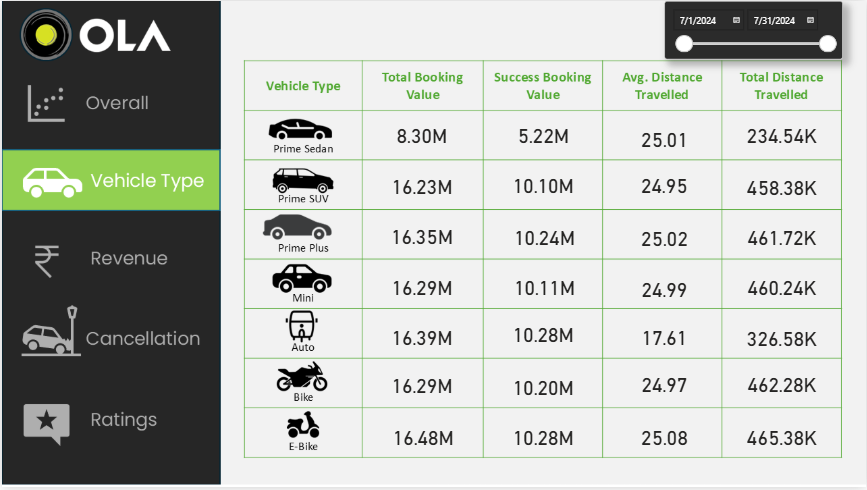

What the dashboard file says about the page in this screenshot:
{"tool":"powerbi","page":{"name":"Vehicle Type","canvas":[1280,720],"ordinal":1},"visuals":[{"type":"actionButton","box":[0,223.6,325,90.3],"z":0},{"type":"actionButton","box":[0,336.1,325,90.3],"z":1000},{"type":"actionButton","box":[0,441.7,325,101.4],"z":2000},{"type":"actionButton","box":[0,576.4,325,101.4],"z":3000},{"type":"actionButton","box":[0,105.6,325,91.7],"z":4000},{"type":"card","fields":{"Values":["Sum(July.Booking_Value)"]},"box":[540.3,173.6,162.5,50],"z":4001},{"type":"card","fields":{"Values":["Sum(July.Booking_Value)"]},"box":[540.3,244.4,162.5,59.7],"z":4002},{"type":"card","fields":{"Values":["Sum(July.Booking_Value)"]},"box":[540.3,313.9,162.5,68.1],"z":4003},{"type":"card","fields":{"Values":["Sum(July.Booking_Value)"]},"box":[540.3,391.7,162.5,62.5],"z":4004},{"type":"card","fields":{"Values":["Sum(July.Booking_Value)"]},"box":[540.3,468.1,162.5,59.7],"z":4005},{"type":"card","fields":{"Values":["Sum(July.Booking_Value)"]},"box":[540.3,543.1,162.5,54.2],"z":4006},{"type":"card","fields":{"Values":["Sum(July.Booking_Value)"]},"box":[541.7,615.3,162.5,62.5],"z":4007},{"type":"card","fields":{"Values":["Sum(July.Booking_Value)"]},"box":[720.8,168.1,162.5,61.1],"z":4008},{"type":"card","fields":{"Values":["Sum(July.Booking_Value)"]},"box":[720.8,243.1,162.5,61.1],"z":4009},{"type":"card","fields":{"Values":["Sum(July.Booking_Value)"]},"box":[722.2,318.1,162.5,61.1],"z":4010},{"type":"card","fields":{"Values":["Sum(July.Booking_Value)"]},"box":[722.2,393.1,162.5,61.1],"z":4011},{"type":"card","fields":{"Values":["Sum(July.Booking_Value)"]},"box":[720.8,462.5,162.5,61.1],"z":4012},{"type":"card","fields":{"Values":["Sum(July.Booking_Value)"]},"box":[720.8,540.3,162.5,61.1],"z":4013},{"type":"card","fields":{"Values":["Sum(July.Booking_Value)"]},"box":[720.8,615.3,162.5,61.1],"z":4014},{"type":"card","fields":{"Values":["Avg(July.Ride_Distance)"]},"box":[900,173.6,162.5,61.1],"z":4015},{"type":"card","fields":{"Values":["Avg(July.Ride_Distance)"]},"box":[900,243.1,162.5,61.1],"z":4016},{"type":"card","fields":{"Values":["Avg(July.Ride_Distance)"]},"box":[900,320.8,162.5,61.1],"z":4017},{"type":"card","fields":{"Values":["Avg(July.Ride_Distance)"]},"box":[900,395.8,162.5,61.1],"z":4018},{"type":"card","fields":{"Values":["Avg(July.Ride_Distance)"]},"box":[900,466.7,162.5,61.1],"z":4019},{"type":"card","fields":{"Values":["Avg(July.Ride_Distance)"]},"box":[900,536.1,162.5,61.1],"z":4020},{"type":"card","fields":{"Values":["Avg(July.Ride_Distance)"]},"box":[900,615.3,162.5,61.1],"z":4021},{"type":"card","fields":{"Values":["Sum(July.Ride_Distance)"]},"box":[1073.6,168.1,162.5,61.1],"z":4022},{"type":"card","fields":{"Values":["Sum(July.Ride_Distance)"]},"box":[1073.6,244.4,162.5,61.1],"z":4023},{"type":"card","fields":{"Values":["Sum(July.Ride_Distance)"]},"box":[1073.6,318.1,162.5,61.1],"z":4024},{"type":"card","fields":{"Values":["Sum(July.Ride_Distance)"]},"box":[1073.6,395.8,162.5,54.2],"z":4025},{"type":"card","fields":{"Values":["Sum(July.Ride_Distance)"]},"box":[1073.6,468.1,162.5,61.1],"z":4026},{"type":"card","fields":{"Values":["Sum(July.Ride_Distance)"]},"box":[1073.6,536.1,162.5,61.1],"z":4027},{"type":"card","fields":{"Values":["Sum(July.Ride_Distance)"]},"box":[1073.6,615.3,162.5,61.1],"z":4028},{"type":"slicer","title":"DATE","fields":{"Values":["July.Date"]},"box":[981.9,0,263.9,86.1],"z":4029}]}

Visuals, with their boxes on the page's 1280x720 design canvas (x1, y1, x2, y2). These are canvas units, not pixel positions in the 867x490 screenshot, which may show the page scaled, cropped or inside an application window:
actionButton: [0,224,325,314]
actionButton: [0,336,325,426]
actionButton: [0,442,325,543]
actionButton: [0,576,325,678]
actionButton: [0,106,325,197]
card - Sum(July.Booking_Value): [540,174,703,224]
card - Sum(July.Booking_Value): [540,244,703,304]
card - Sum(July.Booking_Value): [540,314,703,382]
card - Sum(July.Booking_Value): [540,392,703,454]
card - Sum(July.Booking_Value): [540,468,703,528]
card - Sum(July.Booking_Value): [540,543,703,597]
card - Sum(July.Booking_Value): [542,615,704,678]
card - Sum(July.Booking_Value): [721,168,883,229]
card - Sum(July.Booking_Value): [721,243,883,304]
card - Sum(July.Booking_Value): [722,318,885,379]
card - Sum(July.Booking_Value): [722,393,885,454]
card - Sum(July.Booking_Value): [721,462,883,524]
card - Sum(July.Booking_Value): [721,540,883,601]
card - Sum(July.Booking_Value): [721,615,883,676]
card - Avg(July.Ride_Distance): [900,174,1062,235]
card - Avg(July.Ride_Distance): [900,243,1062,304]
card - Avg(July.Ride_Distance): [900,321,1062,382]
card - Avg(July.Ride_Distance): [900,396,1062,457]
card - Avg(July.Ride_Distance): [900,467,1062,528]
card - Avg(July.Ride_Distance): [900,536,1062,597]
card - Avg(July.Ride_Distance): [900,615,1062,676]
card - Sum(July.Ride_Distance): [1074,168,1236,229]
card - Sum(July.Ride_Distance): [1074,244,1236,306]
card - Sum(July.Ride_Distance): [1074,318,1236,379]
card - Sum(July.Ride_Distance): [1074,396,1236,450]
card - Sum(July.Ride_Distance): [1074,468,1236,529]
card - Sum(July.Ride_Distance): [1074,536,1236,597]
card - Sum(July.Ride_Distance): [1074,615,1236,676]
"DATE" slicer: [982,0,1246,86]
